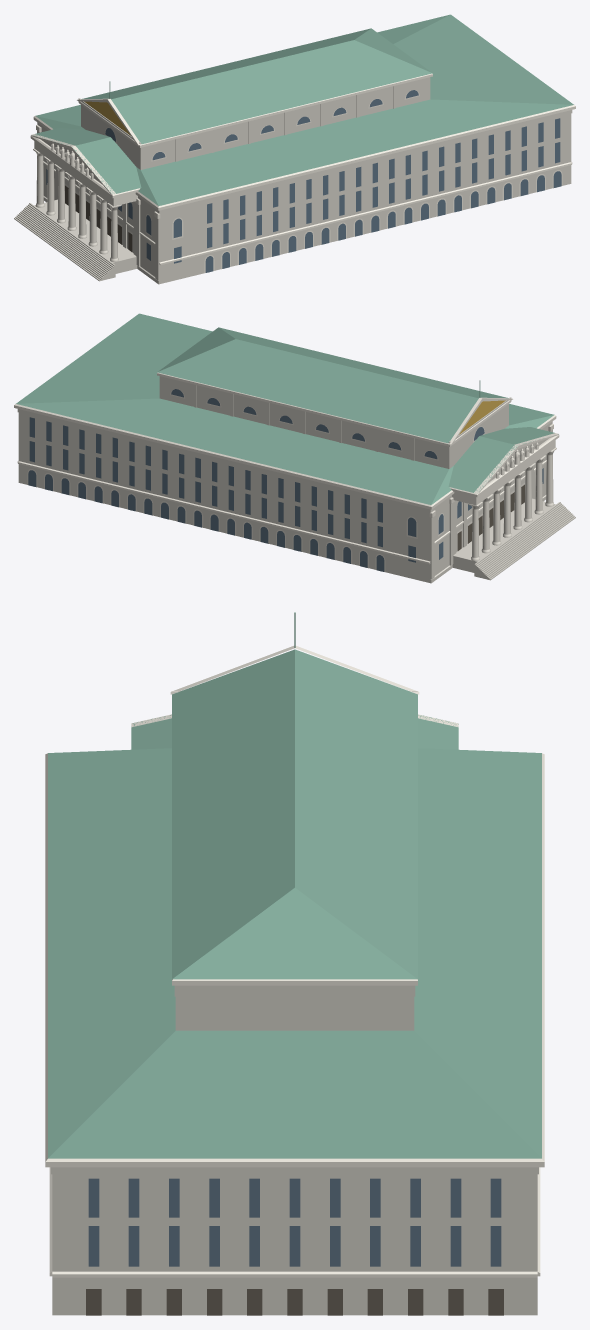
File: munich-nationaltheater.glb
3 renders of one model, top to bottom at view 1: azimuth 30°, elevation 25°; view 2: azimuth 150°, elevation 25°; view 3: azimuth 270°, elevation 25°, orthographic. The views are drawn at different scales.
Visible parts, largest first — view 1: Nationaltheater; view 2: Nationaltheater; view 3: Nationaltheater.
Boxes of the visible parts, box(x1,y1,x2,y2) form: Nationaltheater: box(14, 14, 575, 284); Nationaltheater: box(14, 313, 575, 583); Nationaltheater: box(45, 612, 544, 1315).
Size of the model in its own units: 123 by 40.1 by 58.2.
